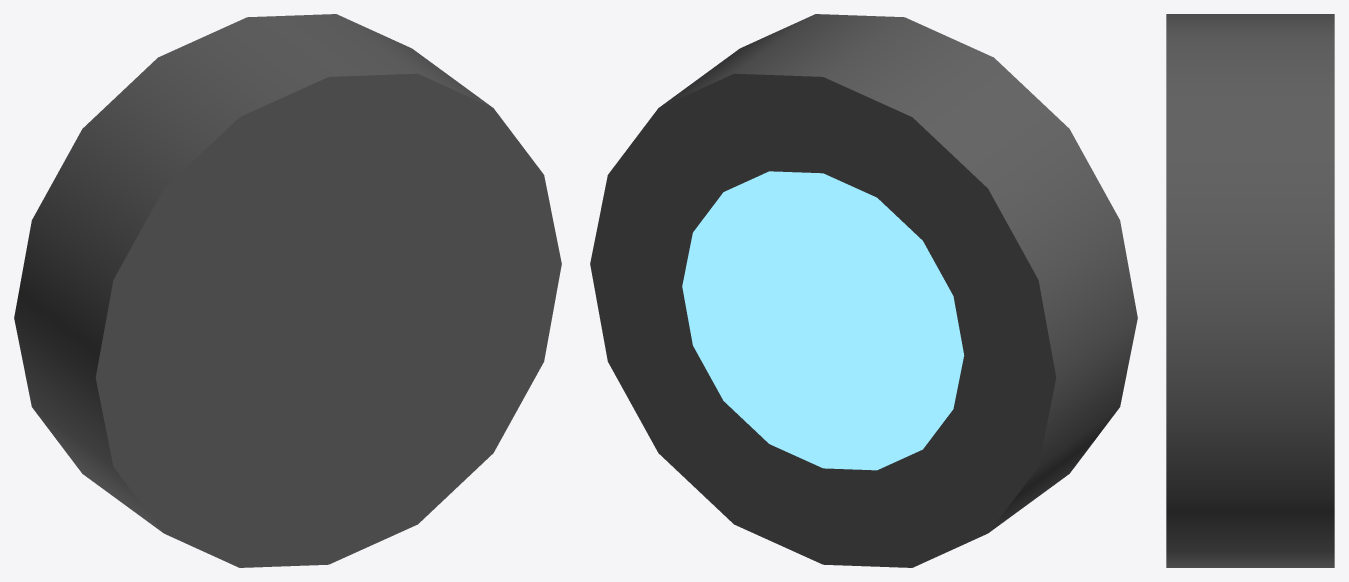
Rendered from rayTarget.glb.
The picture shows the model from 3 angles, left to right: view 1: azimuth 30°, elevation 25°; view 2: azimuth 150°, elevation 25°; view 3: azimuth 270°, elevation 25°; orthographic projection. The views are drawn at different scales.
Visible parts, largest first — view 1: rayTarget; view 2: rayTarget; view 3: rayTarget.
Part boxes in pixels (x1,y1,x2,y2): rayTarget: [14, 14, 561, 567]; rayTarget: [590, 14, 1137, 567]; rayTarget: [1166, 14, 1334, 567].
Size of what is drawn, in the model's own units: 0.8249 by 0.8249 by 0.25.
2 materials, 1 textured.
